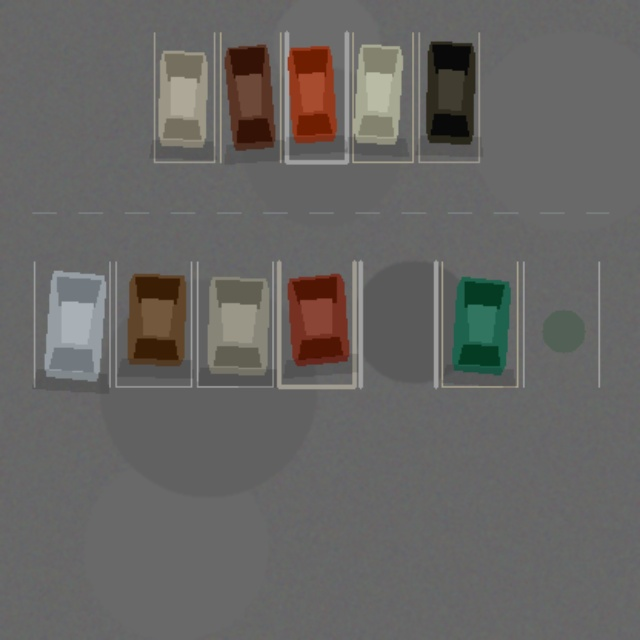space-empty: (360, 262, 435, 386), (523, 262, 598, 386)
space-occupied: (115, 262, 191, 386), (278, 262, 354, 386), (34, 262, 109, 386), (197, 262, 272, 386), (442, 262, 517, 386), (154, 32, 214, 162), (220, 32, 280, 162), (286, 32, 346, 162), (352, 32, 412, 162), (418, 32, 478, 162)
